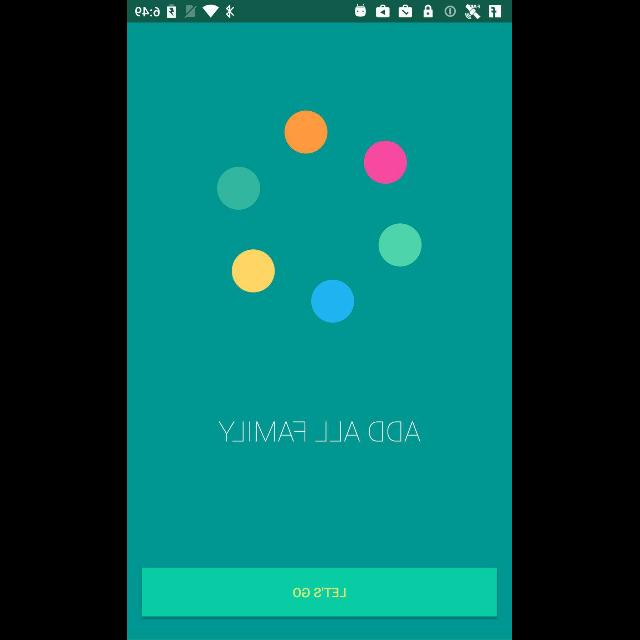image: (217, 110, 423, 324)
text: (219, 421, 421, 443)
textbutton: (142, 568, 498, 616)
uppertaskbar: (128, 1, 512, 23)
